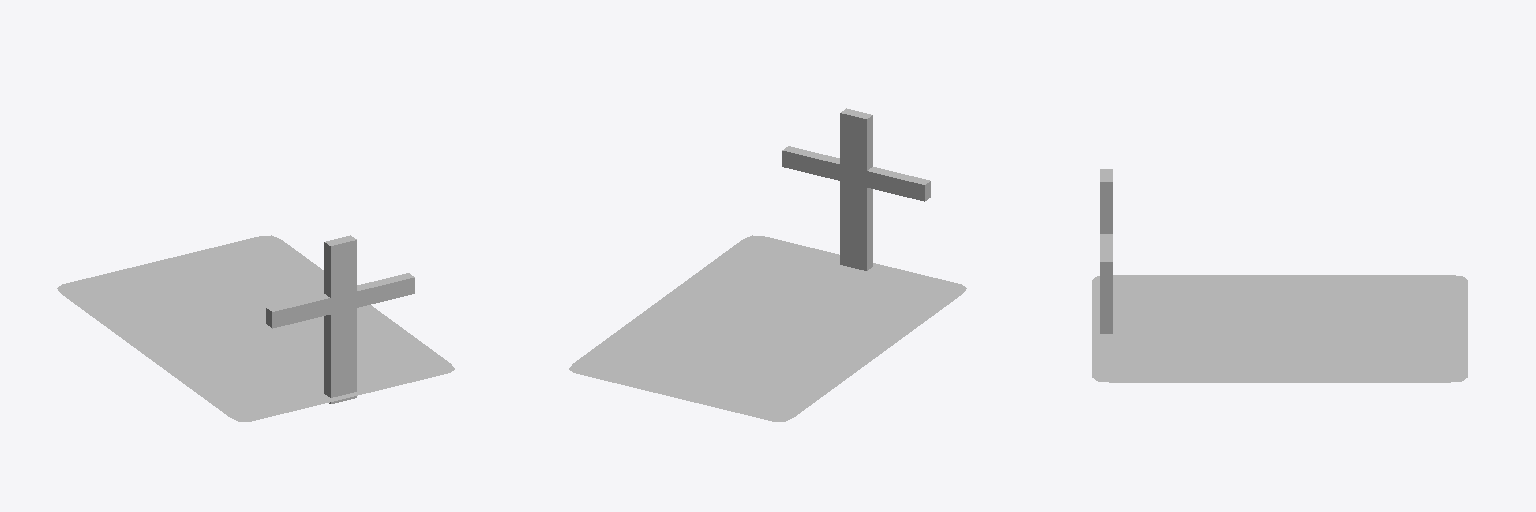
File: grave.obj
3 views of the same model, side by side, from view 1: azimuth 30°, elevation 25°; view 2: azimuth 150°, elevation 25°; view 3: azimuth 270°, elevation 25° (orthographic).
Parts seen in each view (by area): view 1: grave.001; view 2: grave.001; view 3: grave.001.
Part boxes in pixels (bbox=[...]): grave.001: bbox=[57, 235, 454, 421]; grave.001: bbox=[569, 108, 966, 421]; grave.001: bbox=[1092, 169, 1467, 382].
Size of the model in its own units: 0.6969 by 0.4764 by 1.03.